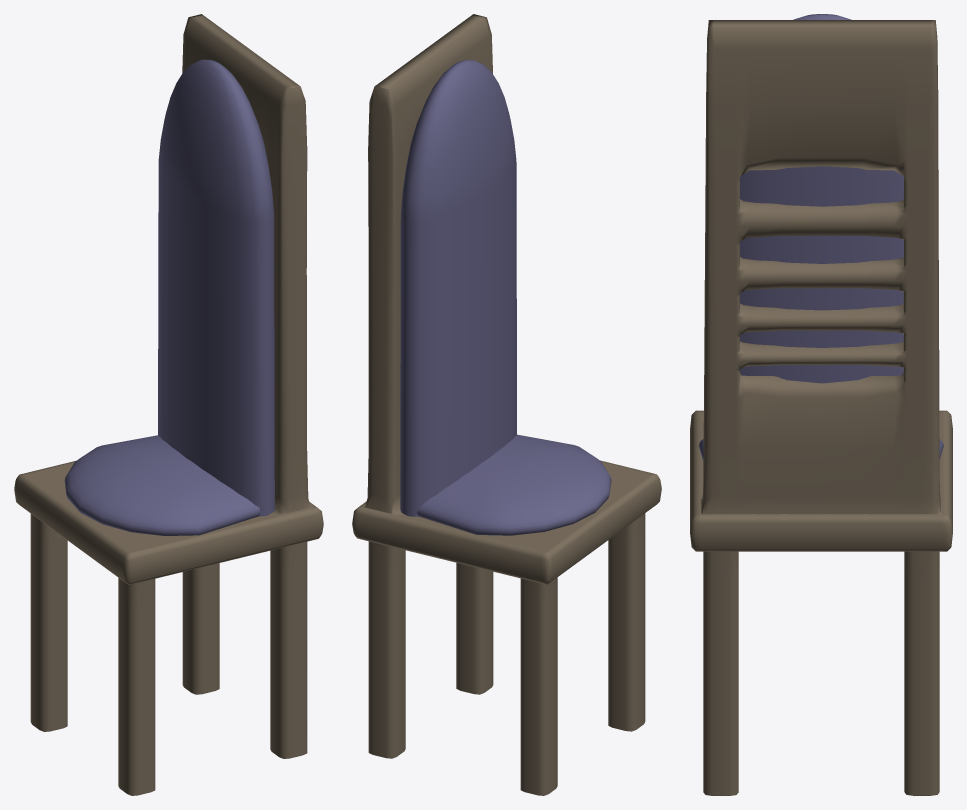
Rendered from chaise_01.fbx.
3 renders of one model, left to right at view 1: azimuth 30°, elevation 25°; view 2: azimuth 150°, elevation 25°; view 3: azimuth 270°, elevation 25°, orthographic. The views are drawn at different scales.
Visible parts, largest first — view 1: pCube7; view 2: pCube7; view 3: pCube7.
Boxes of the visible parts, left/top/right/bottom form: pCube7: left=14, top=14, right=323, bottom=795; pCube7: left=352, top=14, right=661, bottom=795; pCube7: left=690, top=14, right=952, bottom=795.
Bounding box in the file's own units: 1.92 × 6.16 × 1.92.
